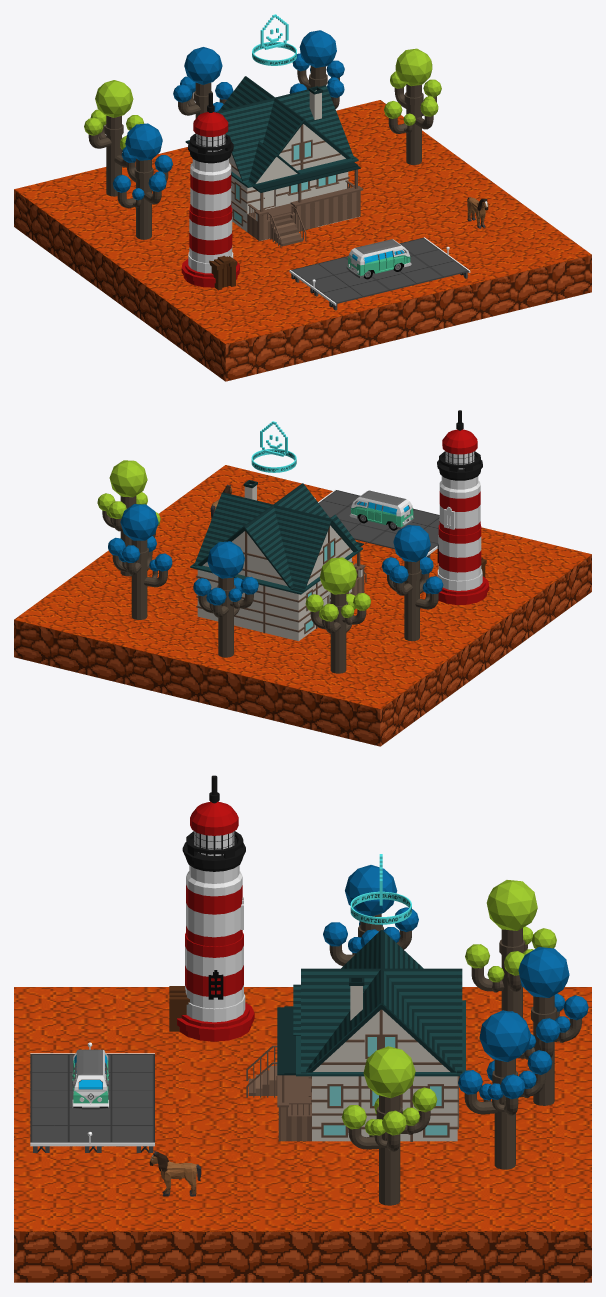
3 views of the same model, one above another, from view 1: azimuth 30°, elevation 25°; view 2: azimuth 150°, elevation 25°; view 3: azimuth 270°, elevation 25° (orthographic). The views are drawn at different scales.
Parts seen in each view (by area): view 1: Cube.001, Cube.793, OBJRANDOM_LIGHTHOUSE, VEHICLES_VAN, TYPE_PREMIUM, ANIMAL_CABALLO; view 2: Cube.001, Cube.793, OBJRANDOM_LIGHTHOUSE, VEHICLES_VAN, TYPE_PREMIUM; view 3: Cube.001, Cube.793, OBJRANDOM_LIGHTHOUSE, VEHICLES_VAN, TYPE_PREMIUM, ANIMAL_CABALLO.
Part boxes in pixels (x1,y1,x2,y2): Cube.001: (14,30,591,381); Cube.793: (185,76,363,247); OBJRANDOM_LIGHTHOUSE: (181,92,239,290); VEHICLES_VAN: (346,239,411,279); TYPE_PREMIUM: (252,14,296,65); ANIMAL_CABALLO: (467,197,488,228); Cube.001: (14,460,591,746); Cube.793: (190,480,366,641); OBJRANDOM_LIGHTHOUSE: (437,410,489,604); VEHICLES_VAN: (349,490,414,530); TYPE_PREMIUM: (251,421,296,472); Cube.001: (14,865,591,1282); Cube.793: (246,930,465,1141); OBJRANDOM_LIGHTHOUSE: (169,775,254,1041); VEHICLES_VAN: (72,1049,109,1109); TYPE_PREMIUM: (350,854,411,924); ANIMAL_CABALLO: (149,1151,201,1196).
Size of the model in its own units: 4000 by 2410 by 4000.
38 materials, 6 textured.
